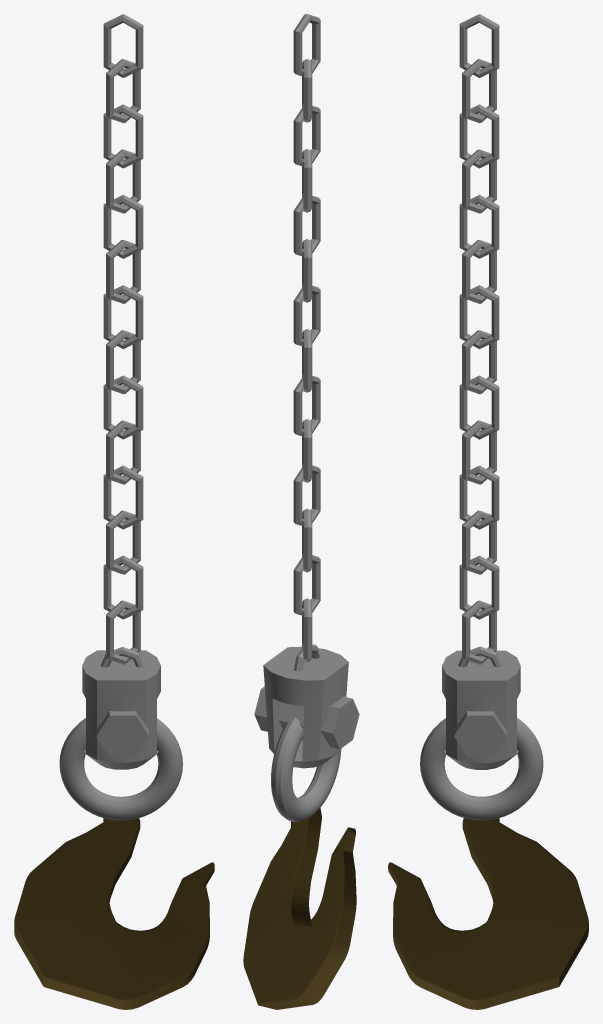
Rendered from P_Crochet.fbx.
3 renders of one model, left to right at view 1: azimuth 90°, elevation 25°; view 2: azimuth 150°, elevation 25°; view 3: azimuth 270°, elevation 25°, orthographic.
Visible parts, largest first — view 1: P_Crochet; view 2: P_Crochet; view 3: P_Crochet.
Part boxes in pixels (left/top/right/bottom): P_Crochet: left=14, top=14, right=214, bottom=1009; P_Crochet: left=243, top=14, right=359, bottom=1009; P_Crochet: left=388, top=14, right=588, bottom=1009.
Size of the model in its own units: 140 by 1676 by 307.
